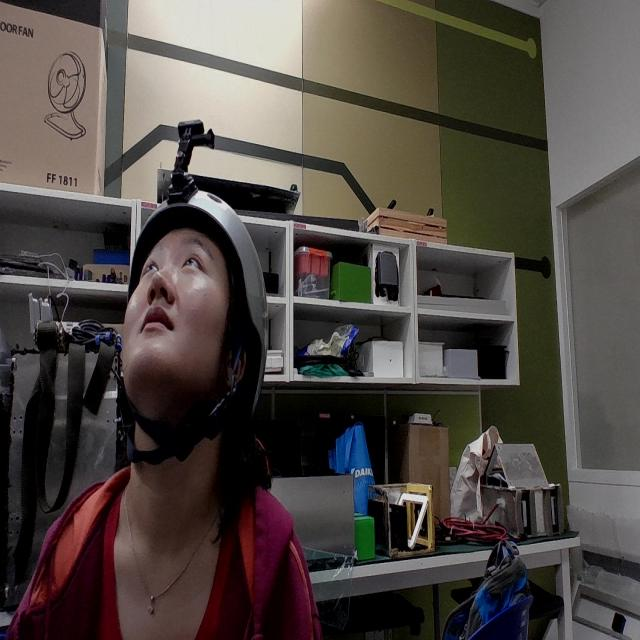With Helmet: (98, 93, 312, 498)
